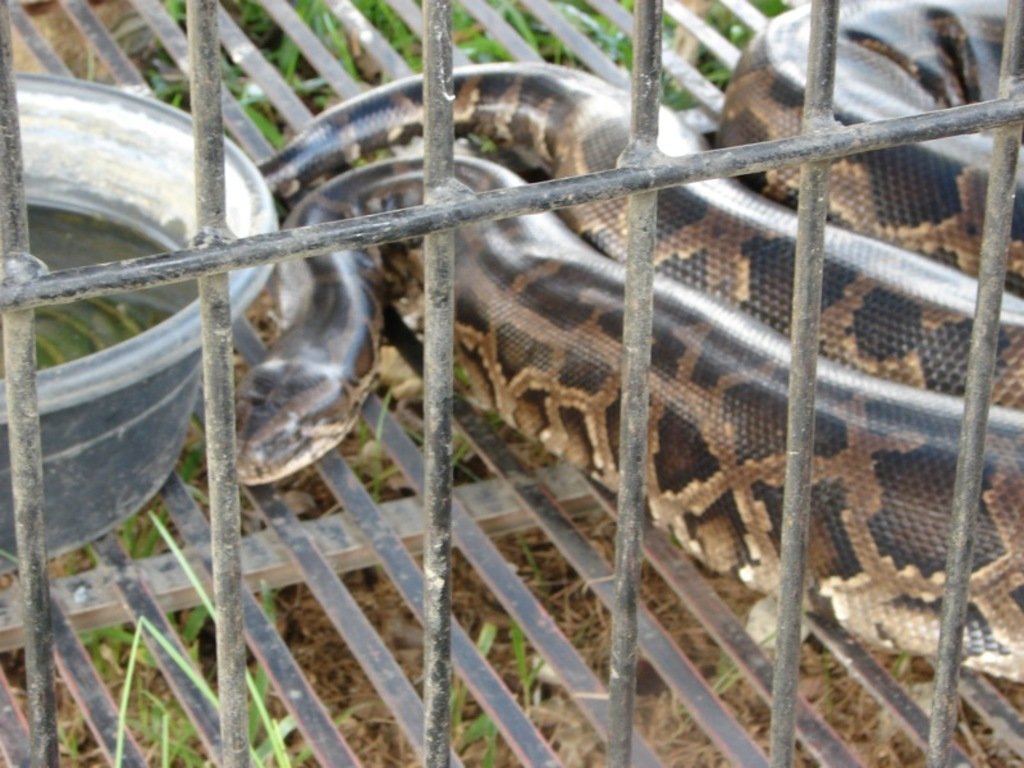Animal: (231, 0, 1022, 686)
